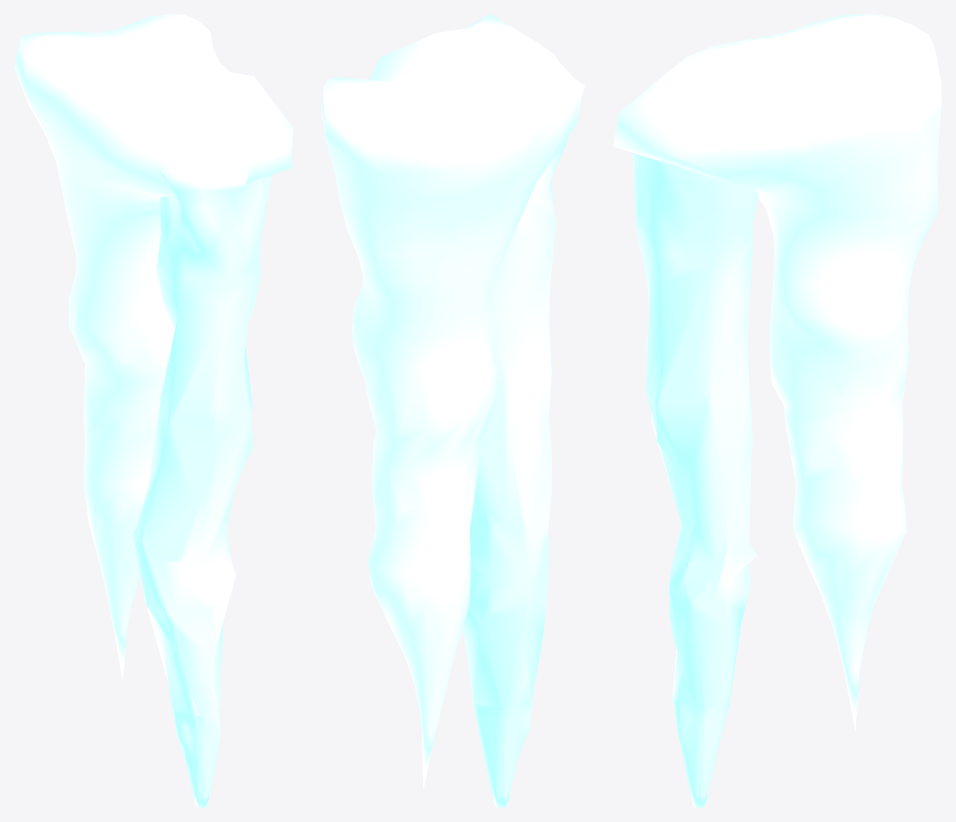
Rendered from icicleclump3-glowing.glb.
3 views of the same model, side by side, from view 1: azimuth 30°, elevation 25°; view 2: azimuth 150°, elevation 25°; view 3: azimuth 270°, elevation 25° (orthographic). The views are drawn at different scales.
Visible parts, largest first — view 1: Cylinder.002, Cylinder; view 2: Cylinder.002, Cylinder; view 3: Cylinder.002, Cylinder.
Boxes of the visible parts, x1,y1,x2,y2 form: Cylinder.002: (14, 14, 293, 681); Cylinder: (132, 167, 272, 807); Cylinder.002: (322, 14, 582, 789); Cylinder: (462, 80, 584, 807); Cylinder.002: (613, 14, 941, 730); Cylinder: (631, 152, 757, 807).
Bounding box in the file's own units: 0.2544 × 0.9494 × 0.3752.
2 materials, 2 textured.
